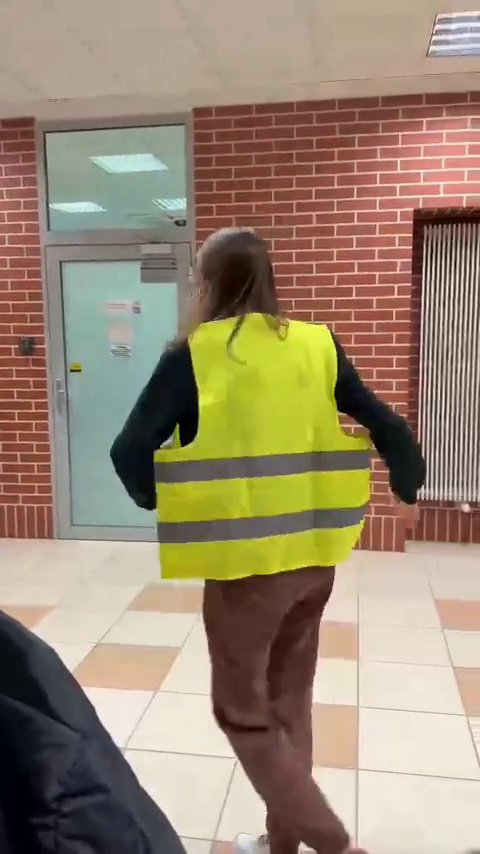vest: (112, 226, 428, 854)
